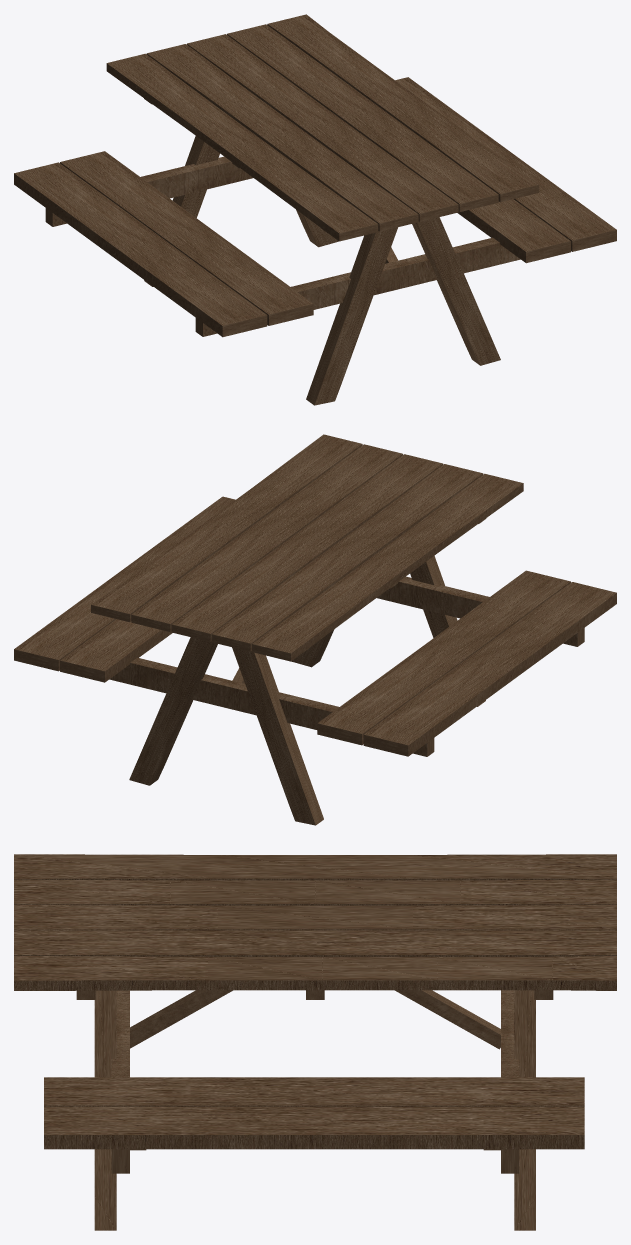
3 renders of one model, top to bottom at view 1: azimuth 30°, elevation 25°; view 2: azimuth 150°, elevation 25°; view 3: azimuth 270°, elevation 25°, orthographic. The views are drawn at different scales.
Visible parts, largest first — view 1: Cube.004, Cube.020, Cube.012, Cube.014, Cube.011; view 2: Cube.004, Cube.020, Cube.011, Cube.014, Cube.012; view 3: Cube.004, Cube.014, Cube.012, Cube.011, Cube.022.
Part boxes in pixels (x1,y1,x2,y2): Cube.004: (106, 14, 539, 241); Cube.020: (14, 151, 313, 337); Cube.012: (195, 217, 520, 405); Cube.014: (395, 77, 616, 263); Cube.011: (45, 136, 338, 286); Cube.004: (91, 434, 523, 661); Cube.020: (317, 570, 616, 756); Cube.011: (109, 637, 434, 825); Cube.014: (14, 496, 235, 682); Cube.012: (291, 555, 584, 706); Cube.004: (14, 854, 616, 990); Cube.014: (44, 1077, 584, 1149); Cube.012: (94, 990, 129, 1230); Cube.011: (501, 990, 535, 1230); Cube.022: (76, 990, 553, 1049).
Size of the model in its own units: 8.51 by 4.07 by 8.7.
Materials: 1 (1 with a texture image).
